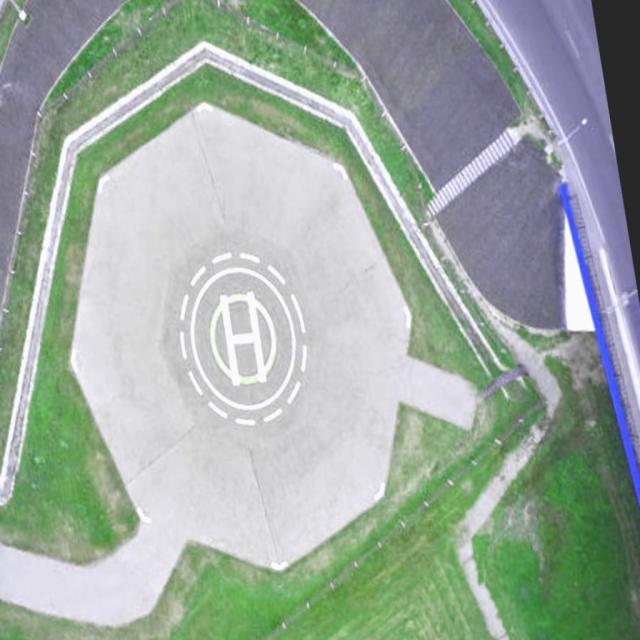helipad: (204, 288, 282, 388)
